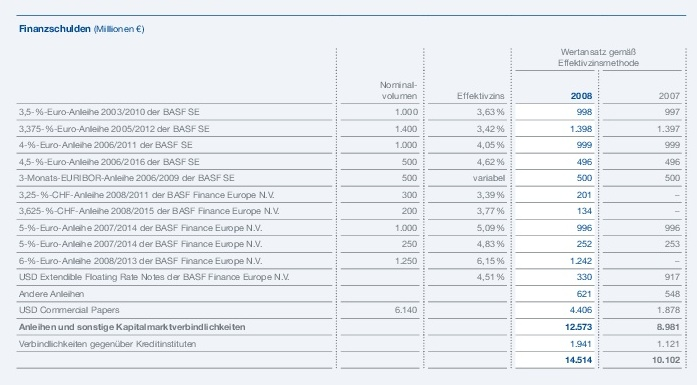table: (0, 0, 697, 385)
